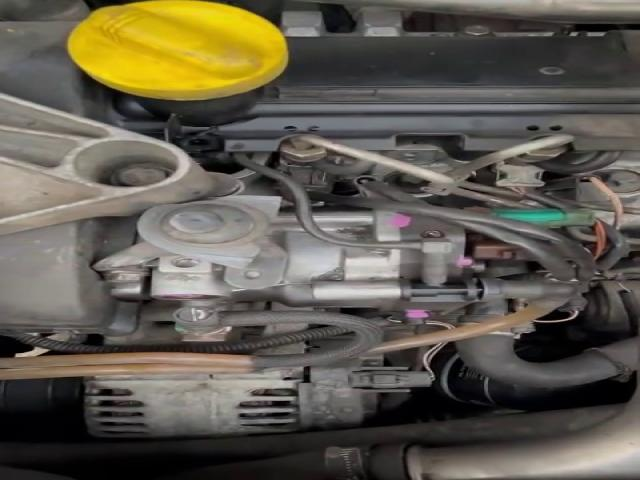alternator: (79, 356, 438, 439)
high_pressure_pump: (146, 207, 480, 326)
